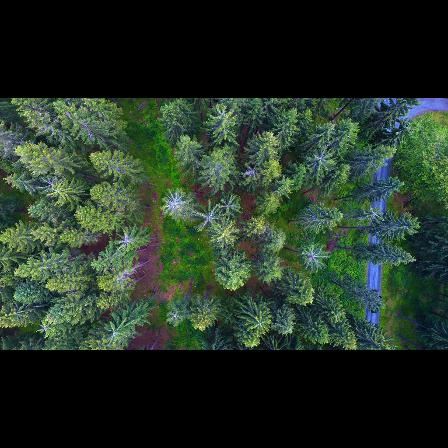Sick: (158, 185, 191, 219), (307, 143, 338, 174), (108, 225, 141, 254), (189, 202, 221, 231), (300, 243, 329, 273), (35, 171, 64, 195), (218, 192, 242, 214), (240, 161, 265, 180)
